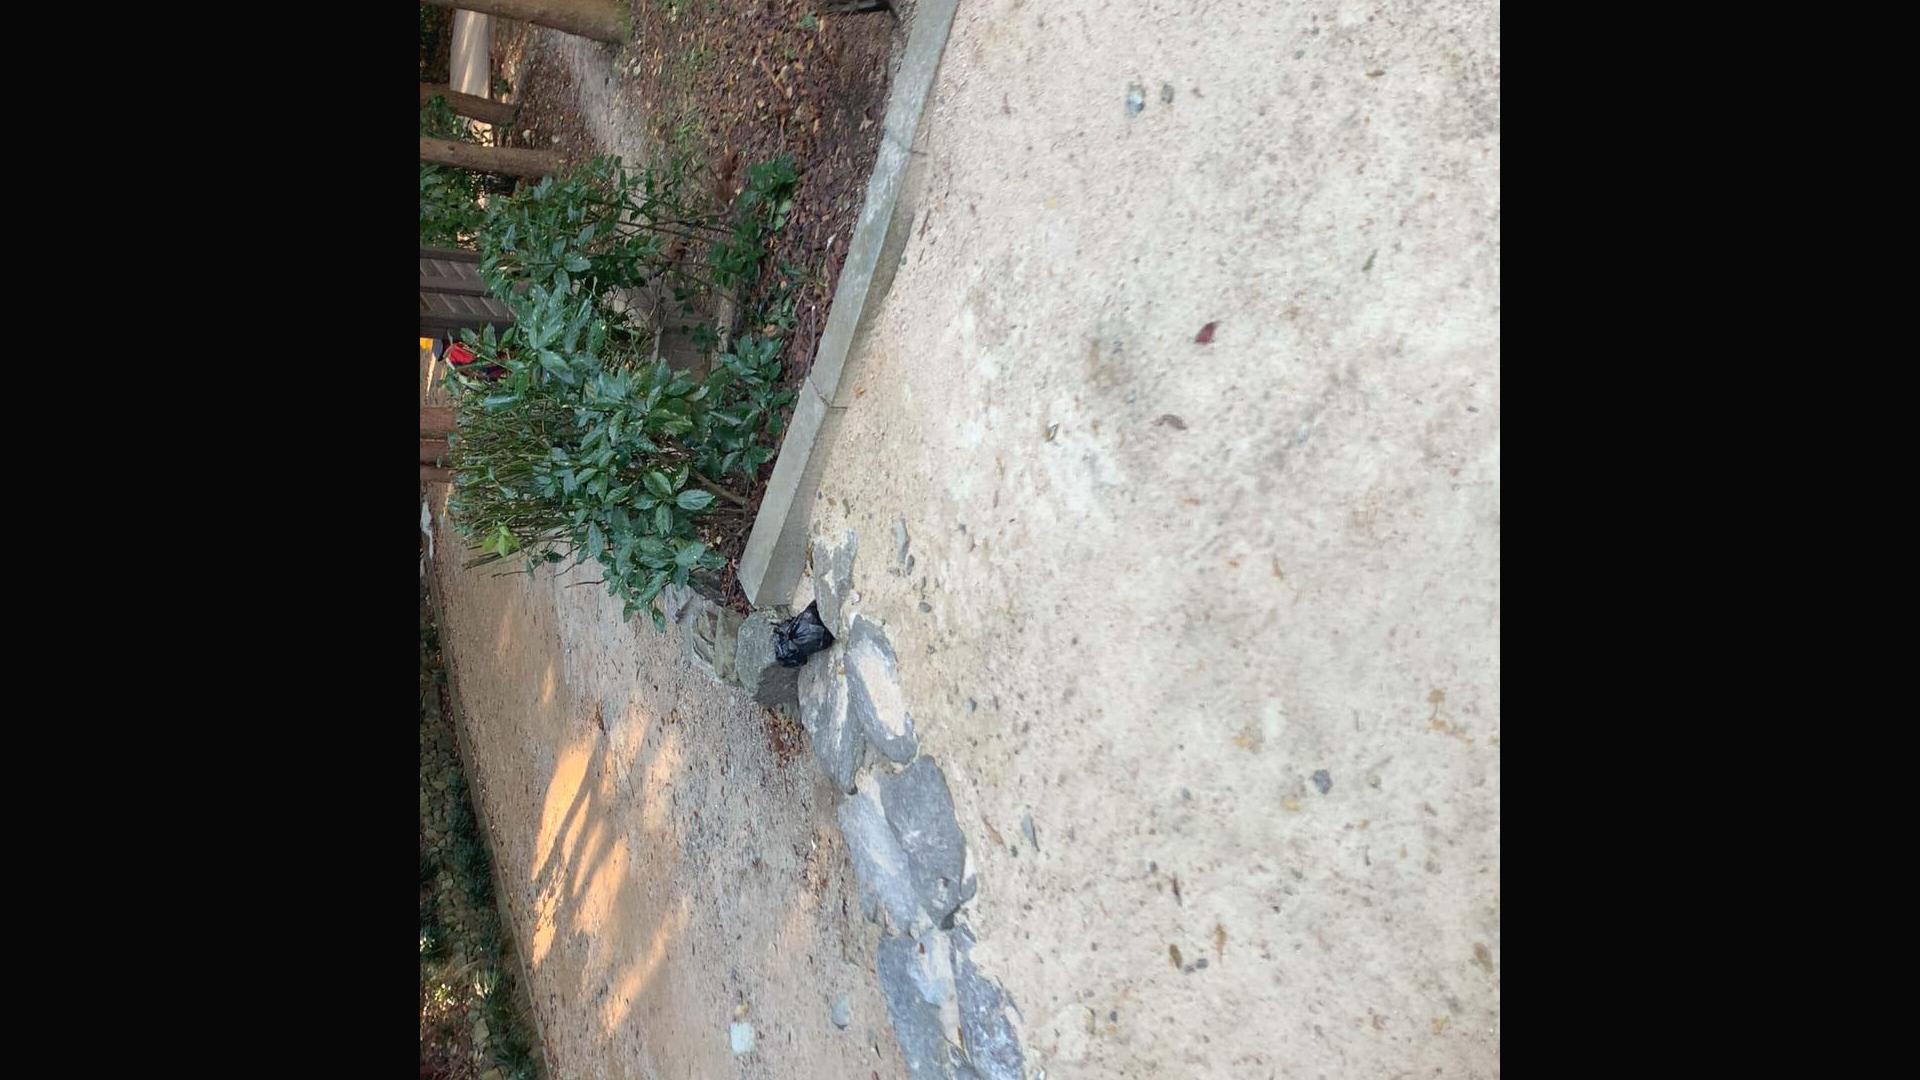black_bag: (783, 597, 833, 655), (767, 617, 804, 669)
